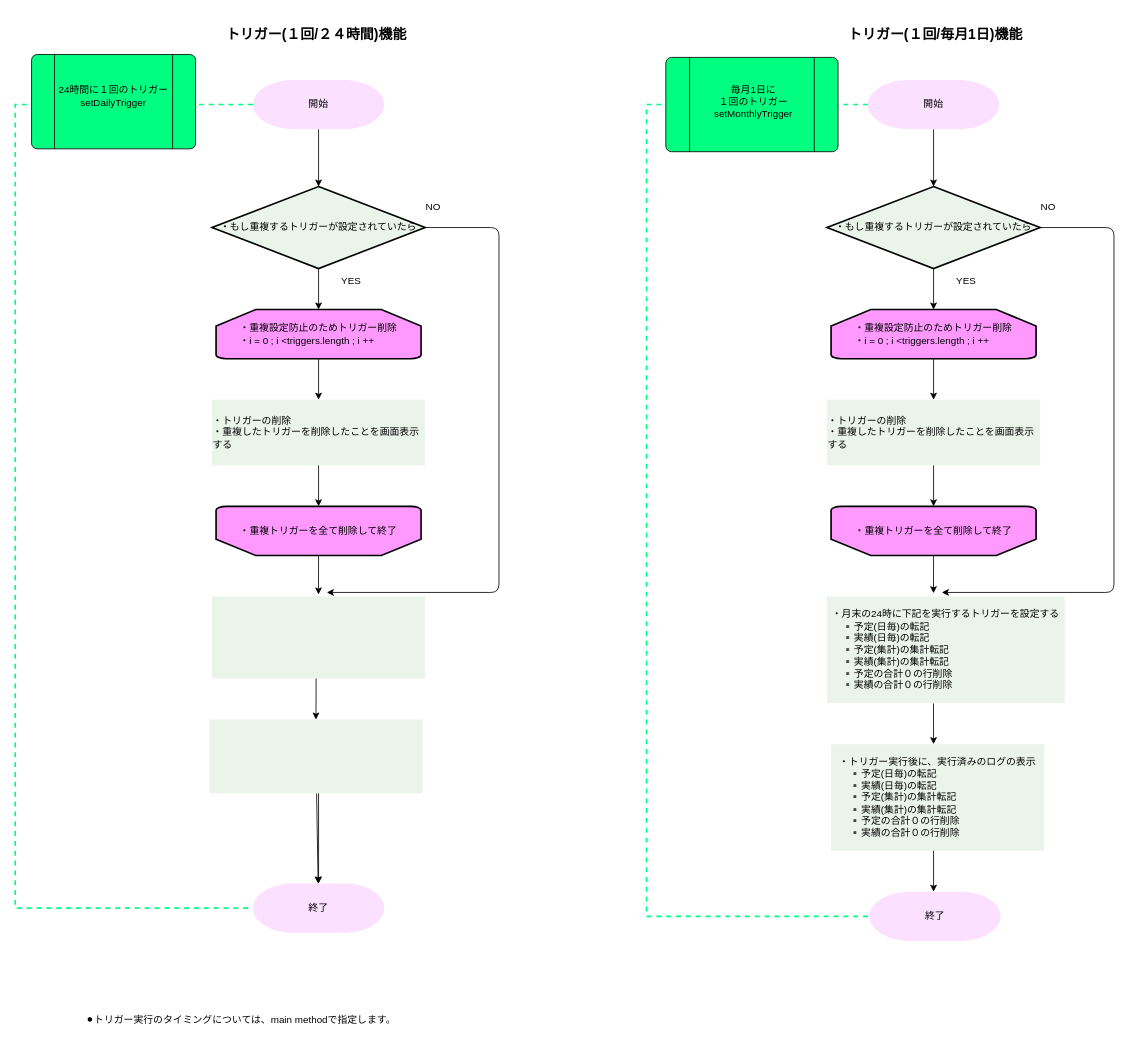
This 1135x1046 diagram has some shape labels left out. The centre of each missing label's shape, as x and y in pixels:
"・トリガー実行後に、実行済みのログの表示 ▪️予定抽出・集計機能 ▪️実績抽出・集計機能" belongs at point (315, 756).
"・毎日24時にトリガーを実行する設定をする。 ▪️予定抽出・集計機能 ▪️実績抽出・集計機能" belongs at point (318, 637).
